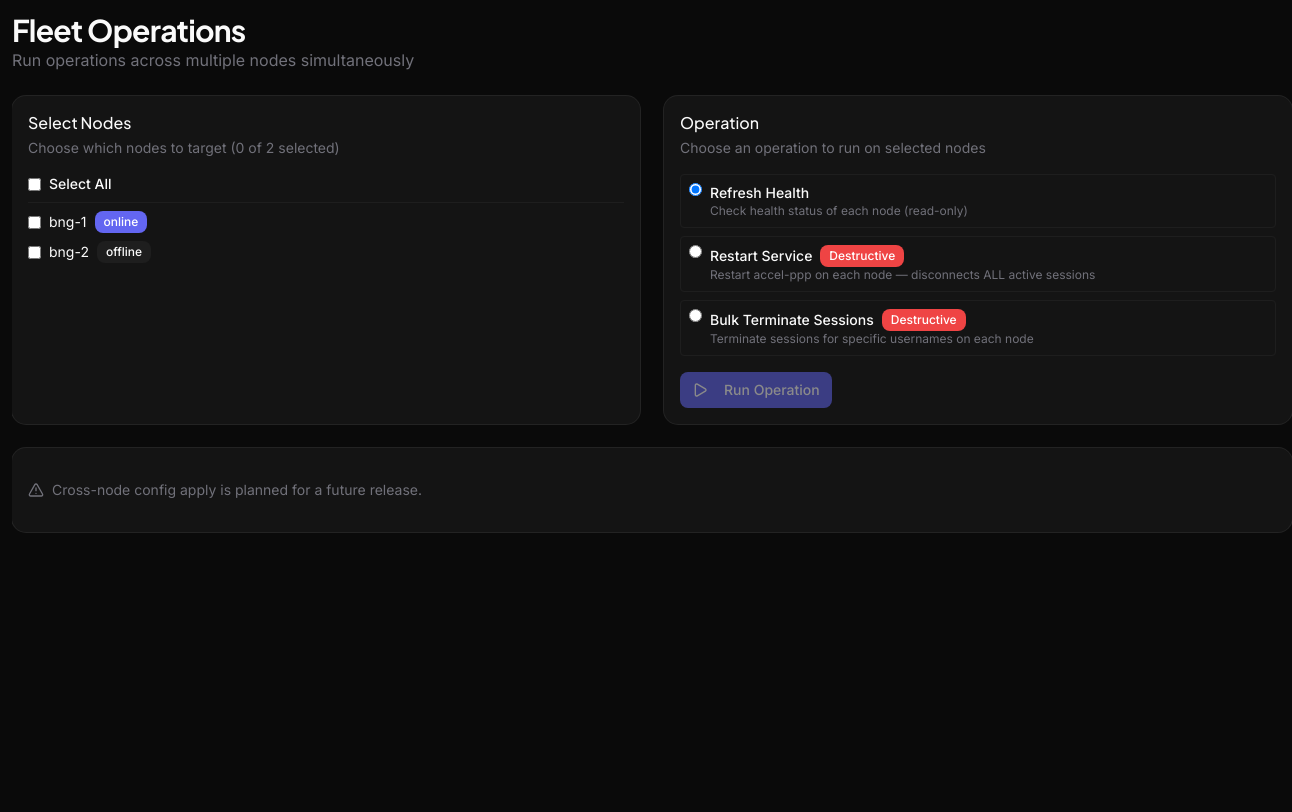
Test: OperationsManager › shows loading spinner while operation is pending
Expected: the text "bng-1" is shown, [49, 212, 87, 232]
Click the checkbox named "Select bng-1" at (34,222), box [28, 216, 41, 228]
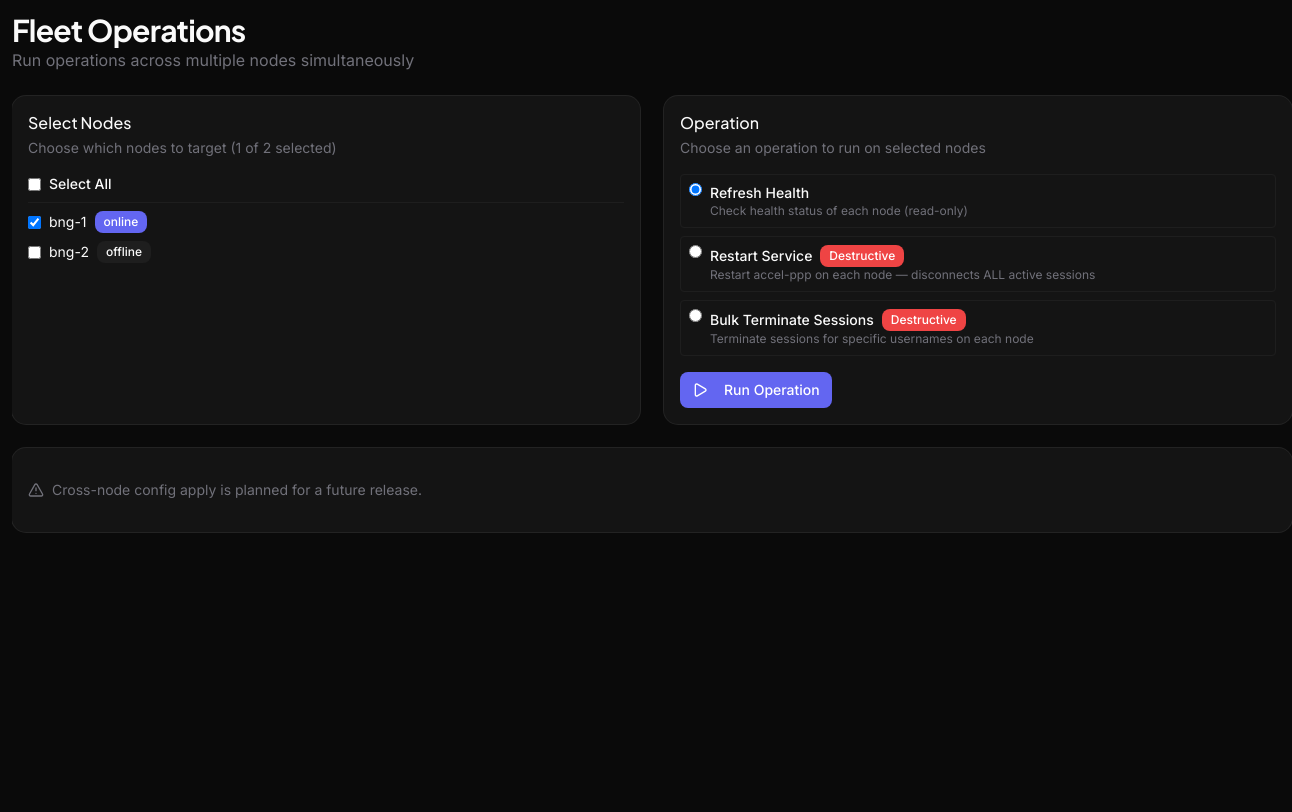
Click the button "Run Operation" at (756,390), box [680, 372, 832, 408]
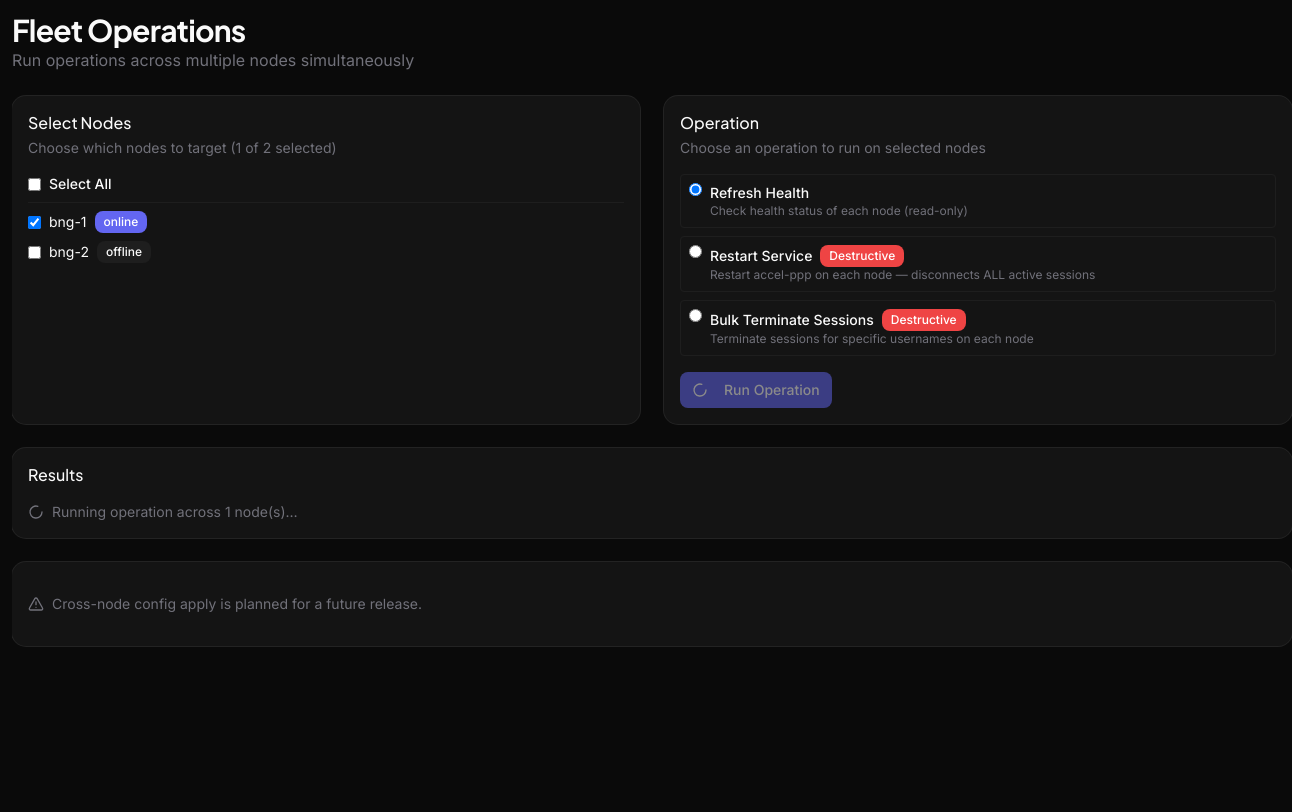
Result: the text "Running operation across 1 node(s)…" is shown at [28, 503, 298, 520]
